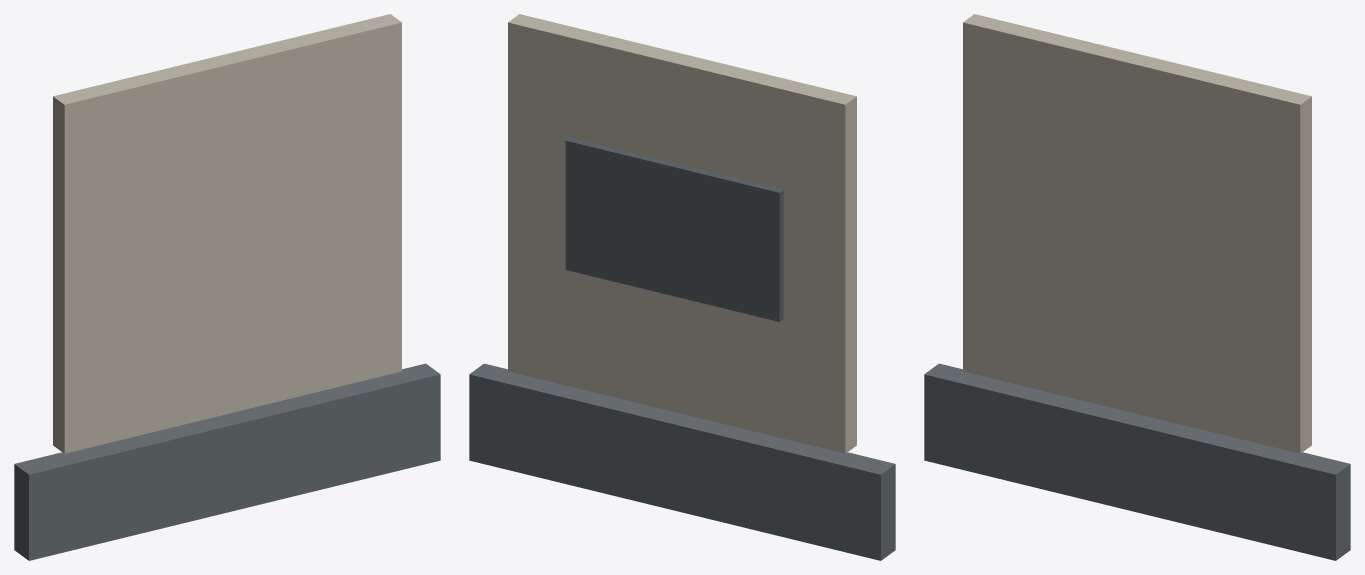
The model's file is iz3_health_screen_01.glb.
3 renders of one model, left to right at view 1: azimuth 30°, elevation 25°; view 2: azimuth 150°, elevation 25°; view 3: azimuth 330°, elevation 25°, orthographic.
Visible parts, largest first — view 1: cabinet, base; view 2: cabinet, base, panel; view 3: cabinet, base.
Boxes of the visible parts, x1,y1,x2,y2 form: cabinet: [53, 14, 401, 453]; base: [14, 363, 440, 560]; cabinet: [508, 14, 856, 453]; base: [469, 363, 895, 560]; panel: [565, 138, 783, 321]; cabinet: [963, 14, 1311, 453]; base: [924, 363, 1350, 560].
Size of the model in its own units: 1.6 by 1.66 by 0.116.
